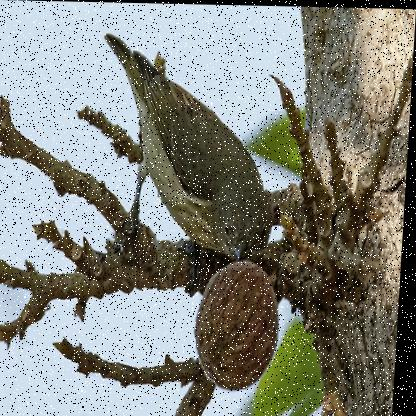Burung: (92, 32, 282, 264)
